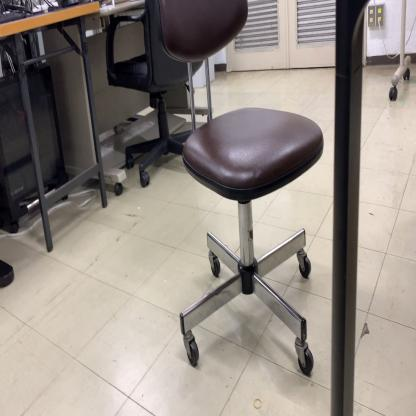chair: (154, 0, 325, 379), (105, 0, 201, 190)
